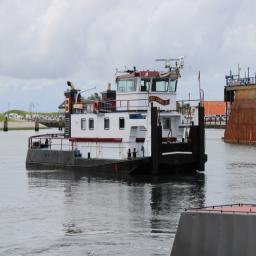tugboat: (26, 56, 209, 177)
